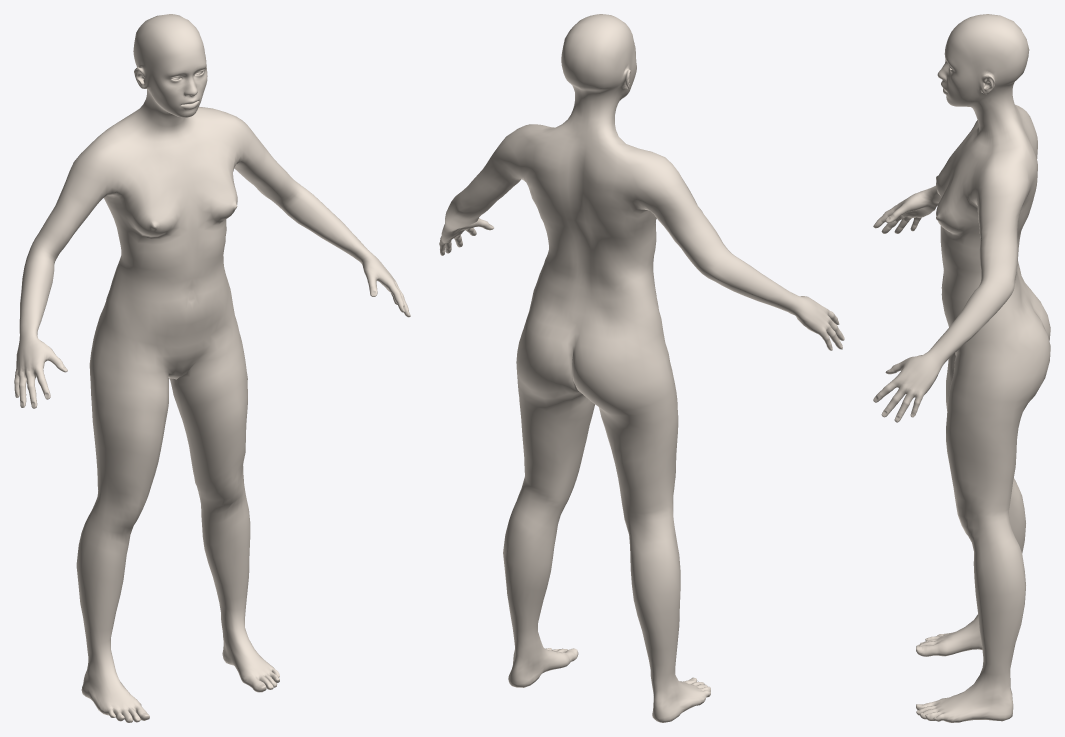
The model's file is avatar.glb.
3 views of the same model, side by side, from view 1: azimuth 30°, elevation 25°; view 2: azimuth 150°, elevation 25°; view 3: azimuth 270°, elevation 25° (orthographic). The views are drawn at different scales.
Parts seen in each view (by area): view 1: Cuerpo; view 2: Cuerpo; view 3: Cuerpo.
Boxes of the visible parts, x1,y1,x2,y2 form: Cuerpo: [14, 14, 410, 722]; Cuerpo: [439, 14, 844, 722]; Cuerpo: [873, 14, 1050, 722].
Size of the model in its own units: 1.01 by 1.65 by 0.398.
